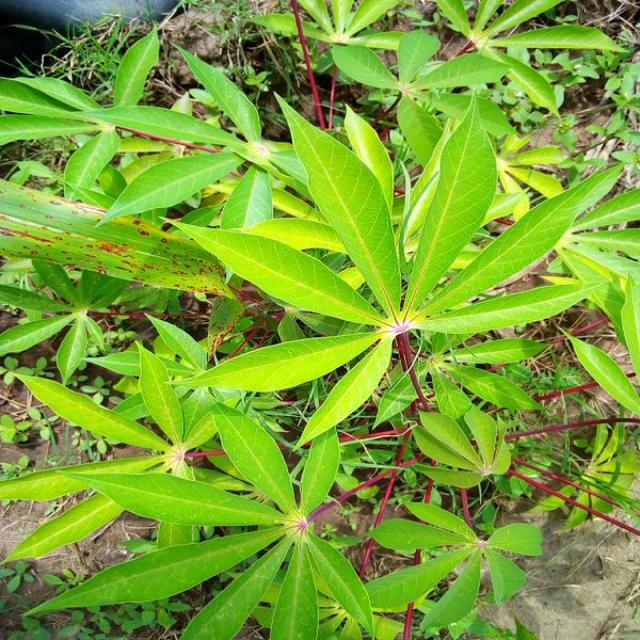cassava leaf: (0, 26, 638, 636), (272, 89, 402, 318)
